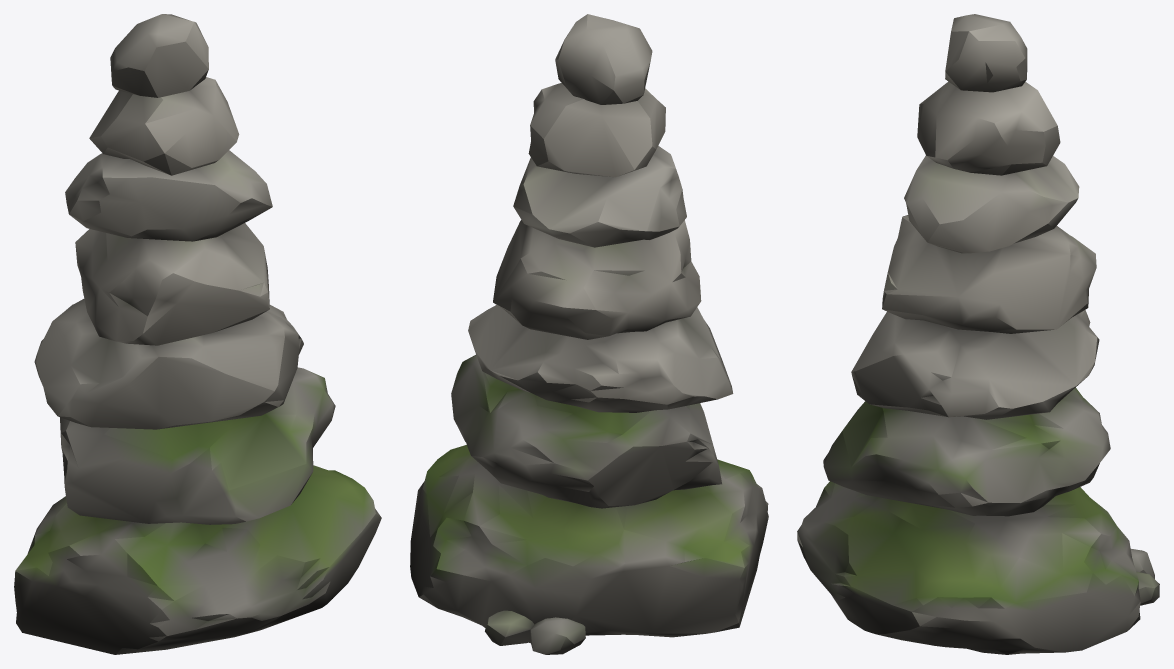
File: land-stoneCairn-v2.glb
The picture shows the model from 3 angles, left to right: view 1: azimuth 30°, elevation 25°; view 2: azimuth 150°, elevation 25°; view 3: azimuth 270°, elevation 25°; orthographic projection.
Parts seen in each view (by area): view 1: 0_stoneCairn; view 2: 0_stoneCairn; view 3: 0_stoneCairn.
Part boxes in pixels (box(x1,y1,x2,y2)): 0_stoneCairn: box(14, 14, 381, 654); 0_stoneCairn: box(410, 14, 768, 654); 0_stoneCairn: box(797, 14, 1159, 654).
Bounding box in the file's own units: 0.9225 × 1.54 × 0.8719.
